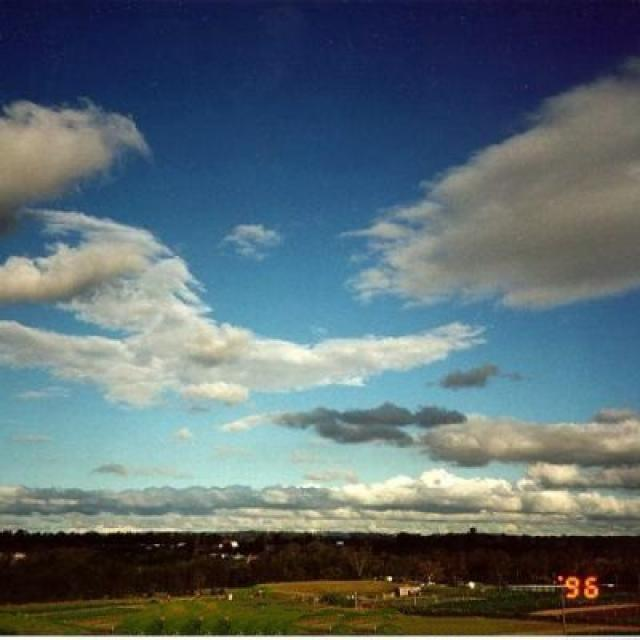Sc: (1, 92, 640, 459)
